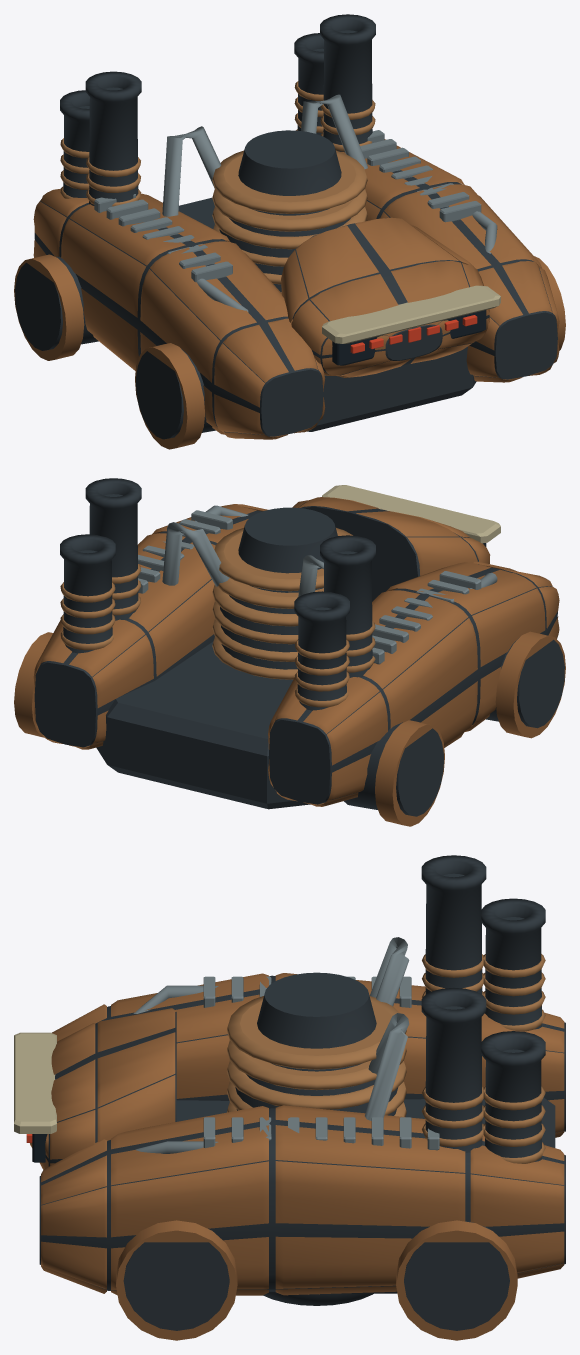
Rendered from kharon_driver_chassis.glb.
3 renders of one model, top to bottom at view 1: azimuth 30°, elevation 25°; view 2: azimuth 150°, elevation 25°; view 3: azimuth 270°, elevation 25°, orthographic. The views are drawn at different scales.
Parts seen in each view (by area): view 1: kharon_driver_chassis; view 2: kharon_driver_chassis; view 3: kharon_driver_chassis.
Boxes of the visible parts, x1,y1,x2,y2 form: kharon_driver_chassis: [14, 14, 565, 449]; kharon_driver_chassis: [14, 478, 565, 826]; kharon_driver_chassis: [14, 855, 565, 1340].
Bounding box in the file's own units: 8.73 × 6.3 × 9.26.
